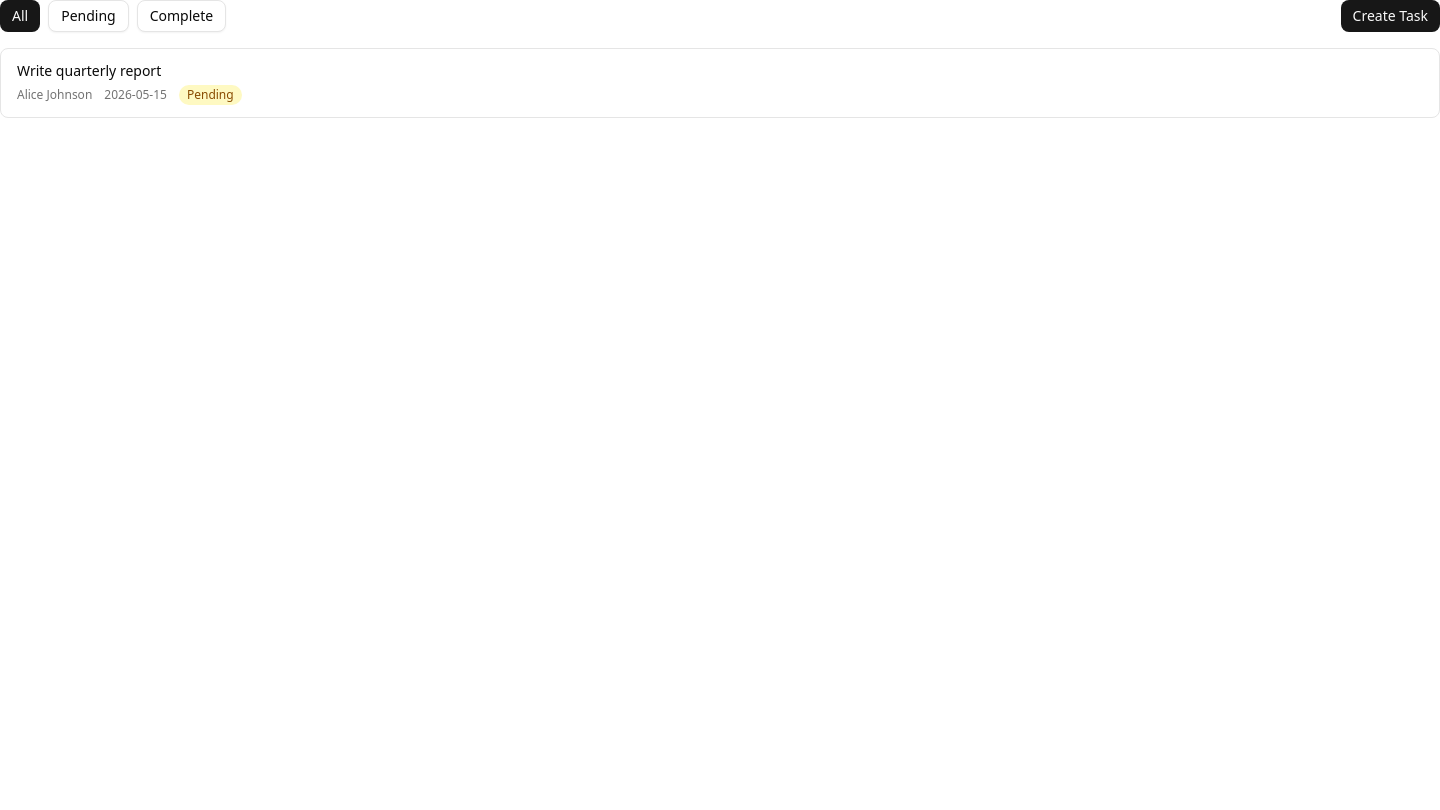
Test: AC-3: Admin never sees "Mark Complete" on any task › AC-3: admin does NOT see "Mark Complete" button inside the task detail modal
Click the text "Write quarterly report". click: (89, 70)
box: [17,61,161,80]
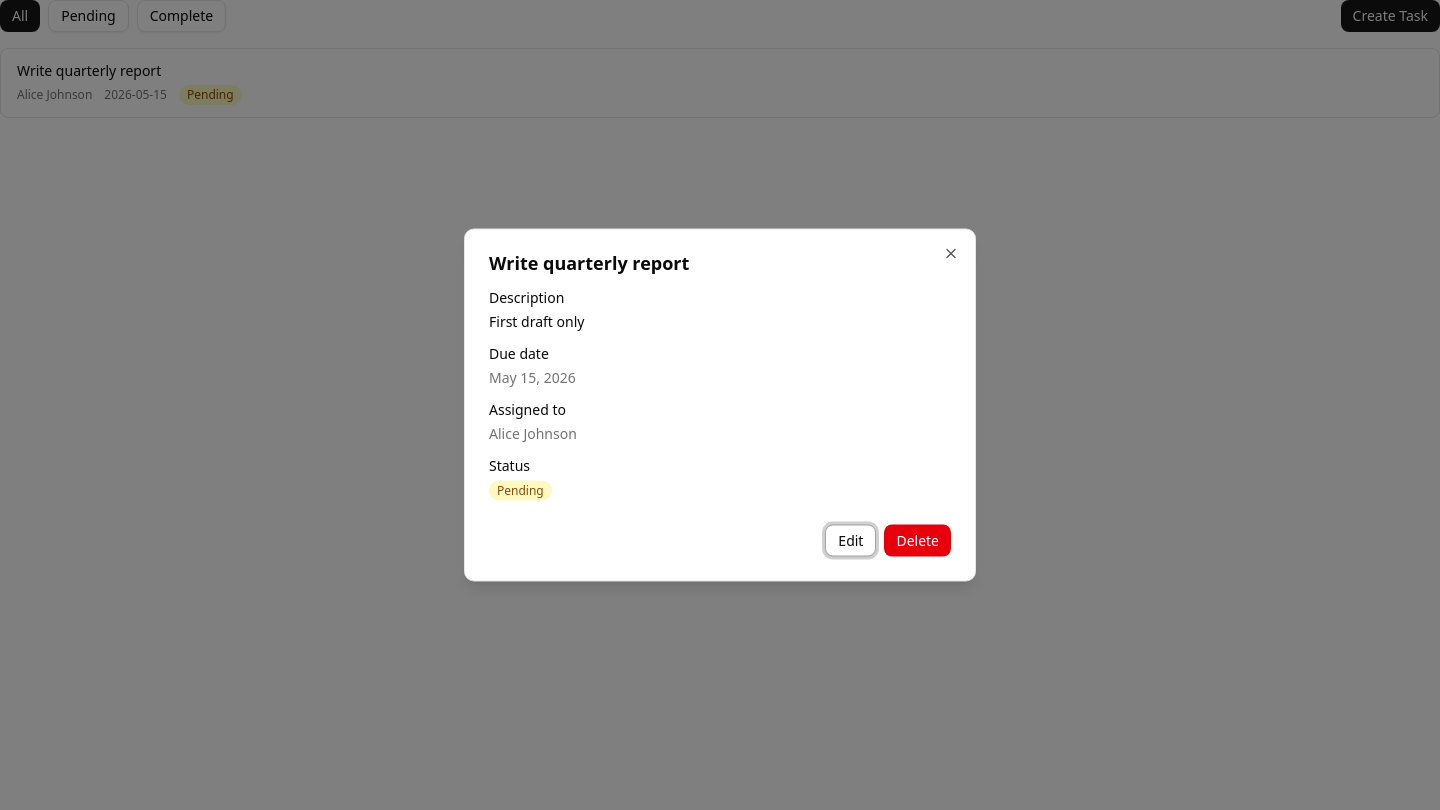
Expected: the dialog is shown, [464,228,976,582]
